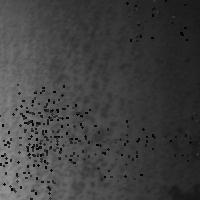pitted_surface: (1, 16, 154, 198), (27, 104, 85, 164), (94, 120, 151, 180), (4, 87, 57, 147), (0, 136, 56, 192), (31, 106, 91, 158), (17, 84, 67, 139), (0, 107, 44, 165), (126, 0, 186, 40), (152, 112, 200, 160), (0, 172, 56, 200)
